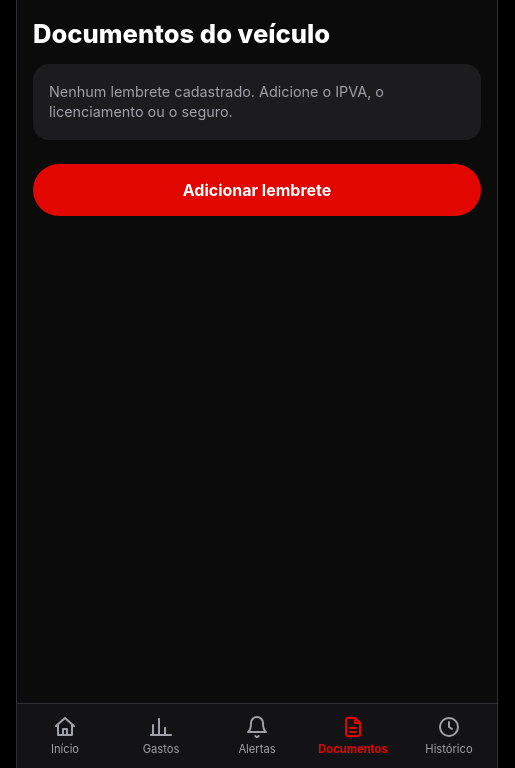
Test: T06 · Documentos › mostra o erro da API ao adicionar com dados inválidos
Expected: the text "Nenhum lembrete cadastrado" is shown, [49,83,384,120]
Click the button "Adicionar lembrete" at (257, 190), box [33,164,481,216]
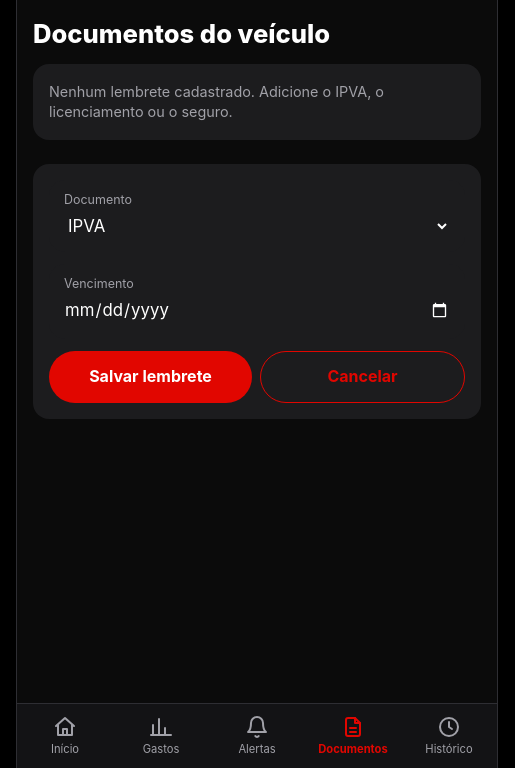
Click the button "Salvar lembrete" at (150, 377), box [49,351,252,403]
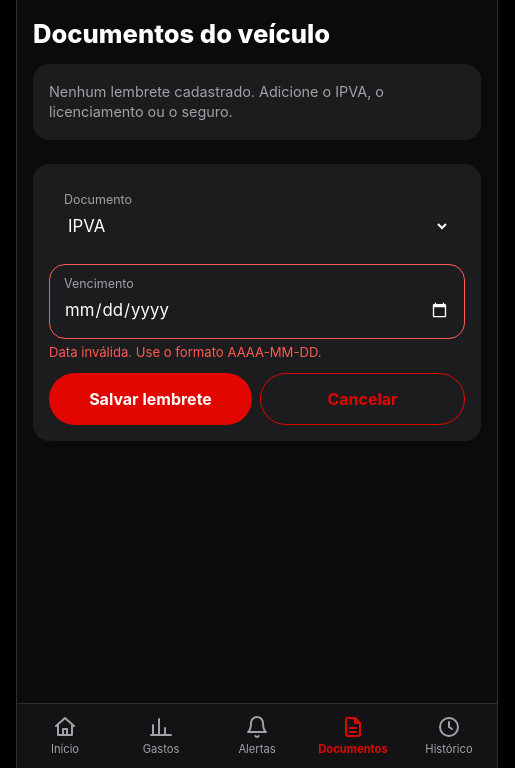
Now the text "Data inválida. Use o formato AAAA-MM-DD." is shown, box [49,344,322,360]
